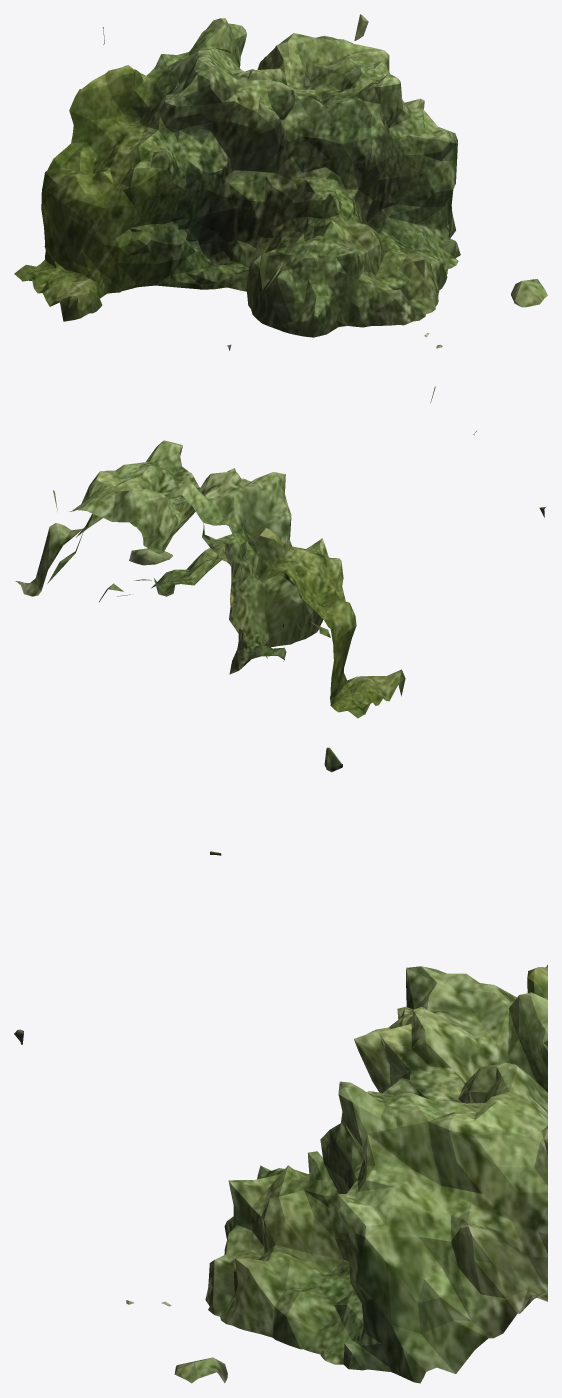
The picture shows the model from 3 angles, top to bottom: view 1: azimuth 30°, elevation 25°; view 2: azimuth 150°, elevation 25°; view 3: azimuth 270°, elevation 25°; orthographic projection. The views are drawn at different scales.
Size of the model in its own units: 5.9 by 4.67 by 5.65.
3 materials, 3 textured.
